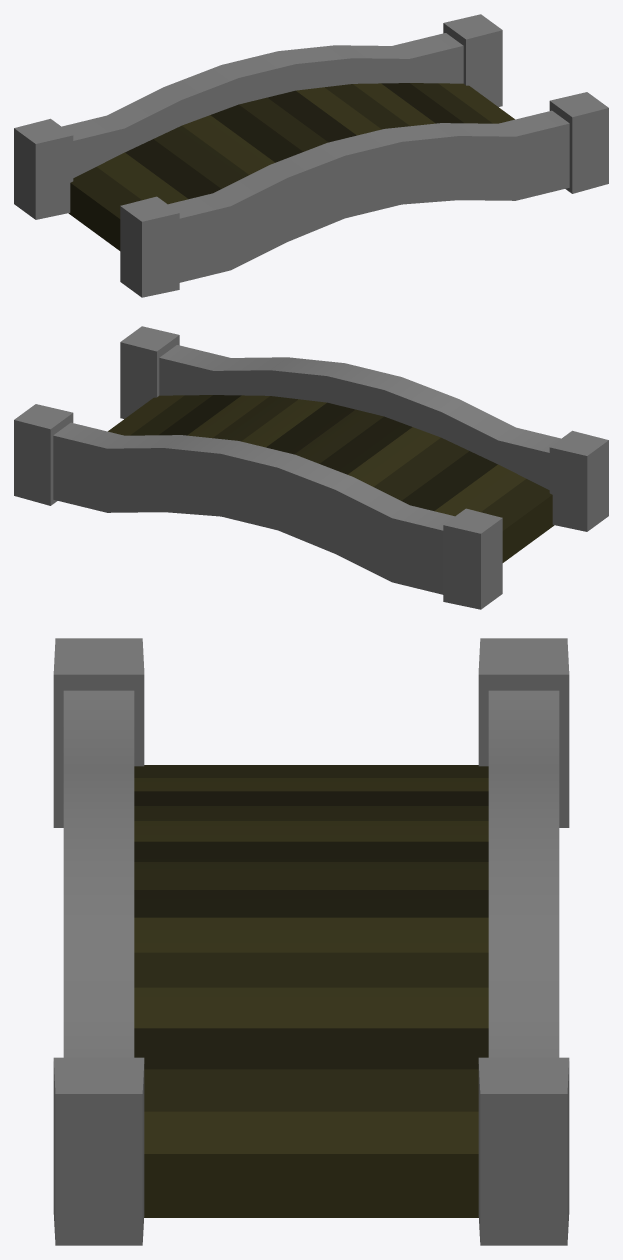
File: Gazebo New Bridge.FBX
The picture shows the model from 3 angles, top to bottom: view 1: azimuth 30°, elevation 25°; view 2: azimuth 150°, elevation 25°; view 3: azimuth 270°, elevation 25°; orthographic projection. The views are drawn at different scales.
Parts seen in each view (by area): view 1: NewBridge; view 2: NewBridge; view 3: NewBridge.
Boxes of the visible parts, x1,y1,x2,y2 form: NewBridge: (14,14,608,297); NewBridge: (14,326,608,609); NewBridge: (53,638,569,1245).
Size of the model in its own units: 7.62 by 1.45 by 3.64.
